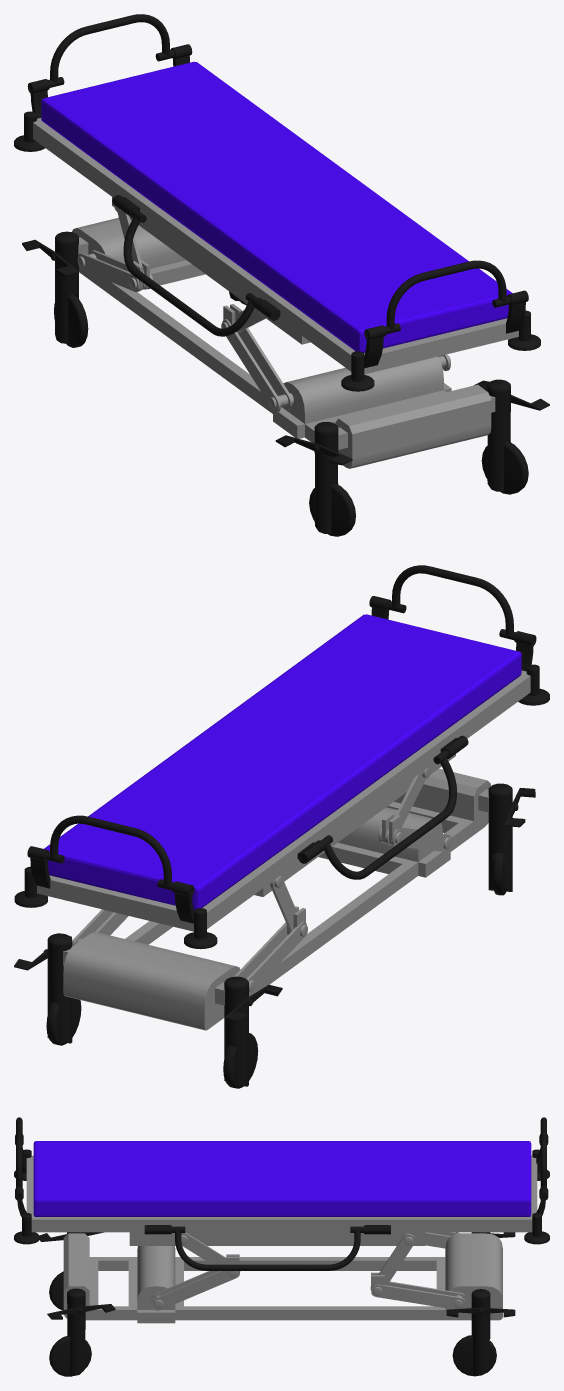
File: Brancard_01.FBX
The picture shows the model from 3 angles, top to bottom: view 1: azimuth 30°, elevation 25°; view 2: azimuth 150°, elevation 25°; view 3: azimuth 270°, elevation 25°; orthographic projection. The views are drawn at different scales.
Parts seen in each view (by area): view 1: matelas, Box008, Cylinder030; view 2: matelas, Box008, Cylinder030; view 3: matelas, Box008, Cylinder030.
Boxes of the visible parts, x1=… form: matelas: x1=41, y1=61, x2=512, y2=352; Box008: x1=33, y1=118, x2=518, y2=468; Cylinder030: x1=14, y1=14, x2=549, y2=536; matelas: x1=44, y1=614, x2=521, y2=909; Box008: x1=37, y1=670, x2=530, y2=1030; Cylinder030: x1=14, y1=565, x2=549, y2=1088; matelas: x1=33, y1=1141, x2=531, y2=1216; Box008: x1=26, y1=1155, x2=537, y2=1323; Cylinder030: x1=14, y1=1117, x2=549, y2=1376.
Bounding box in the file's own units: 85.48 × 91.56 × 210.
